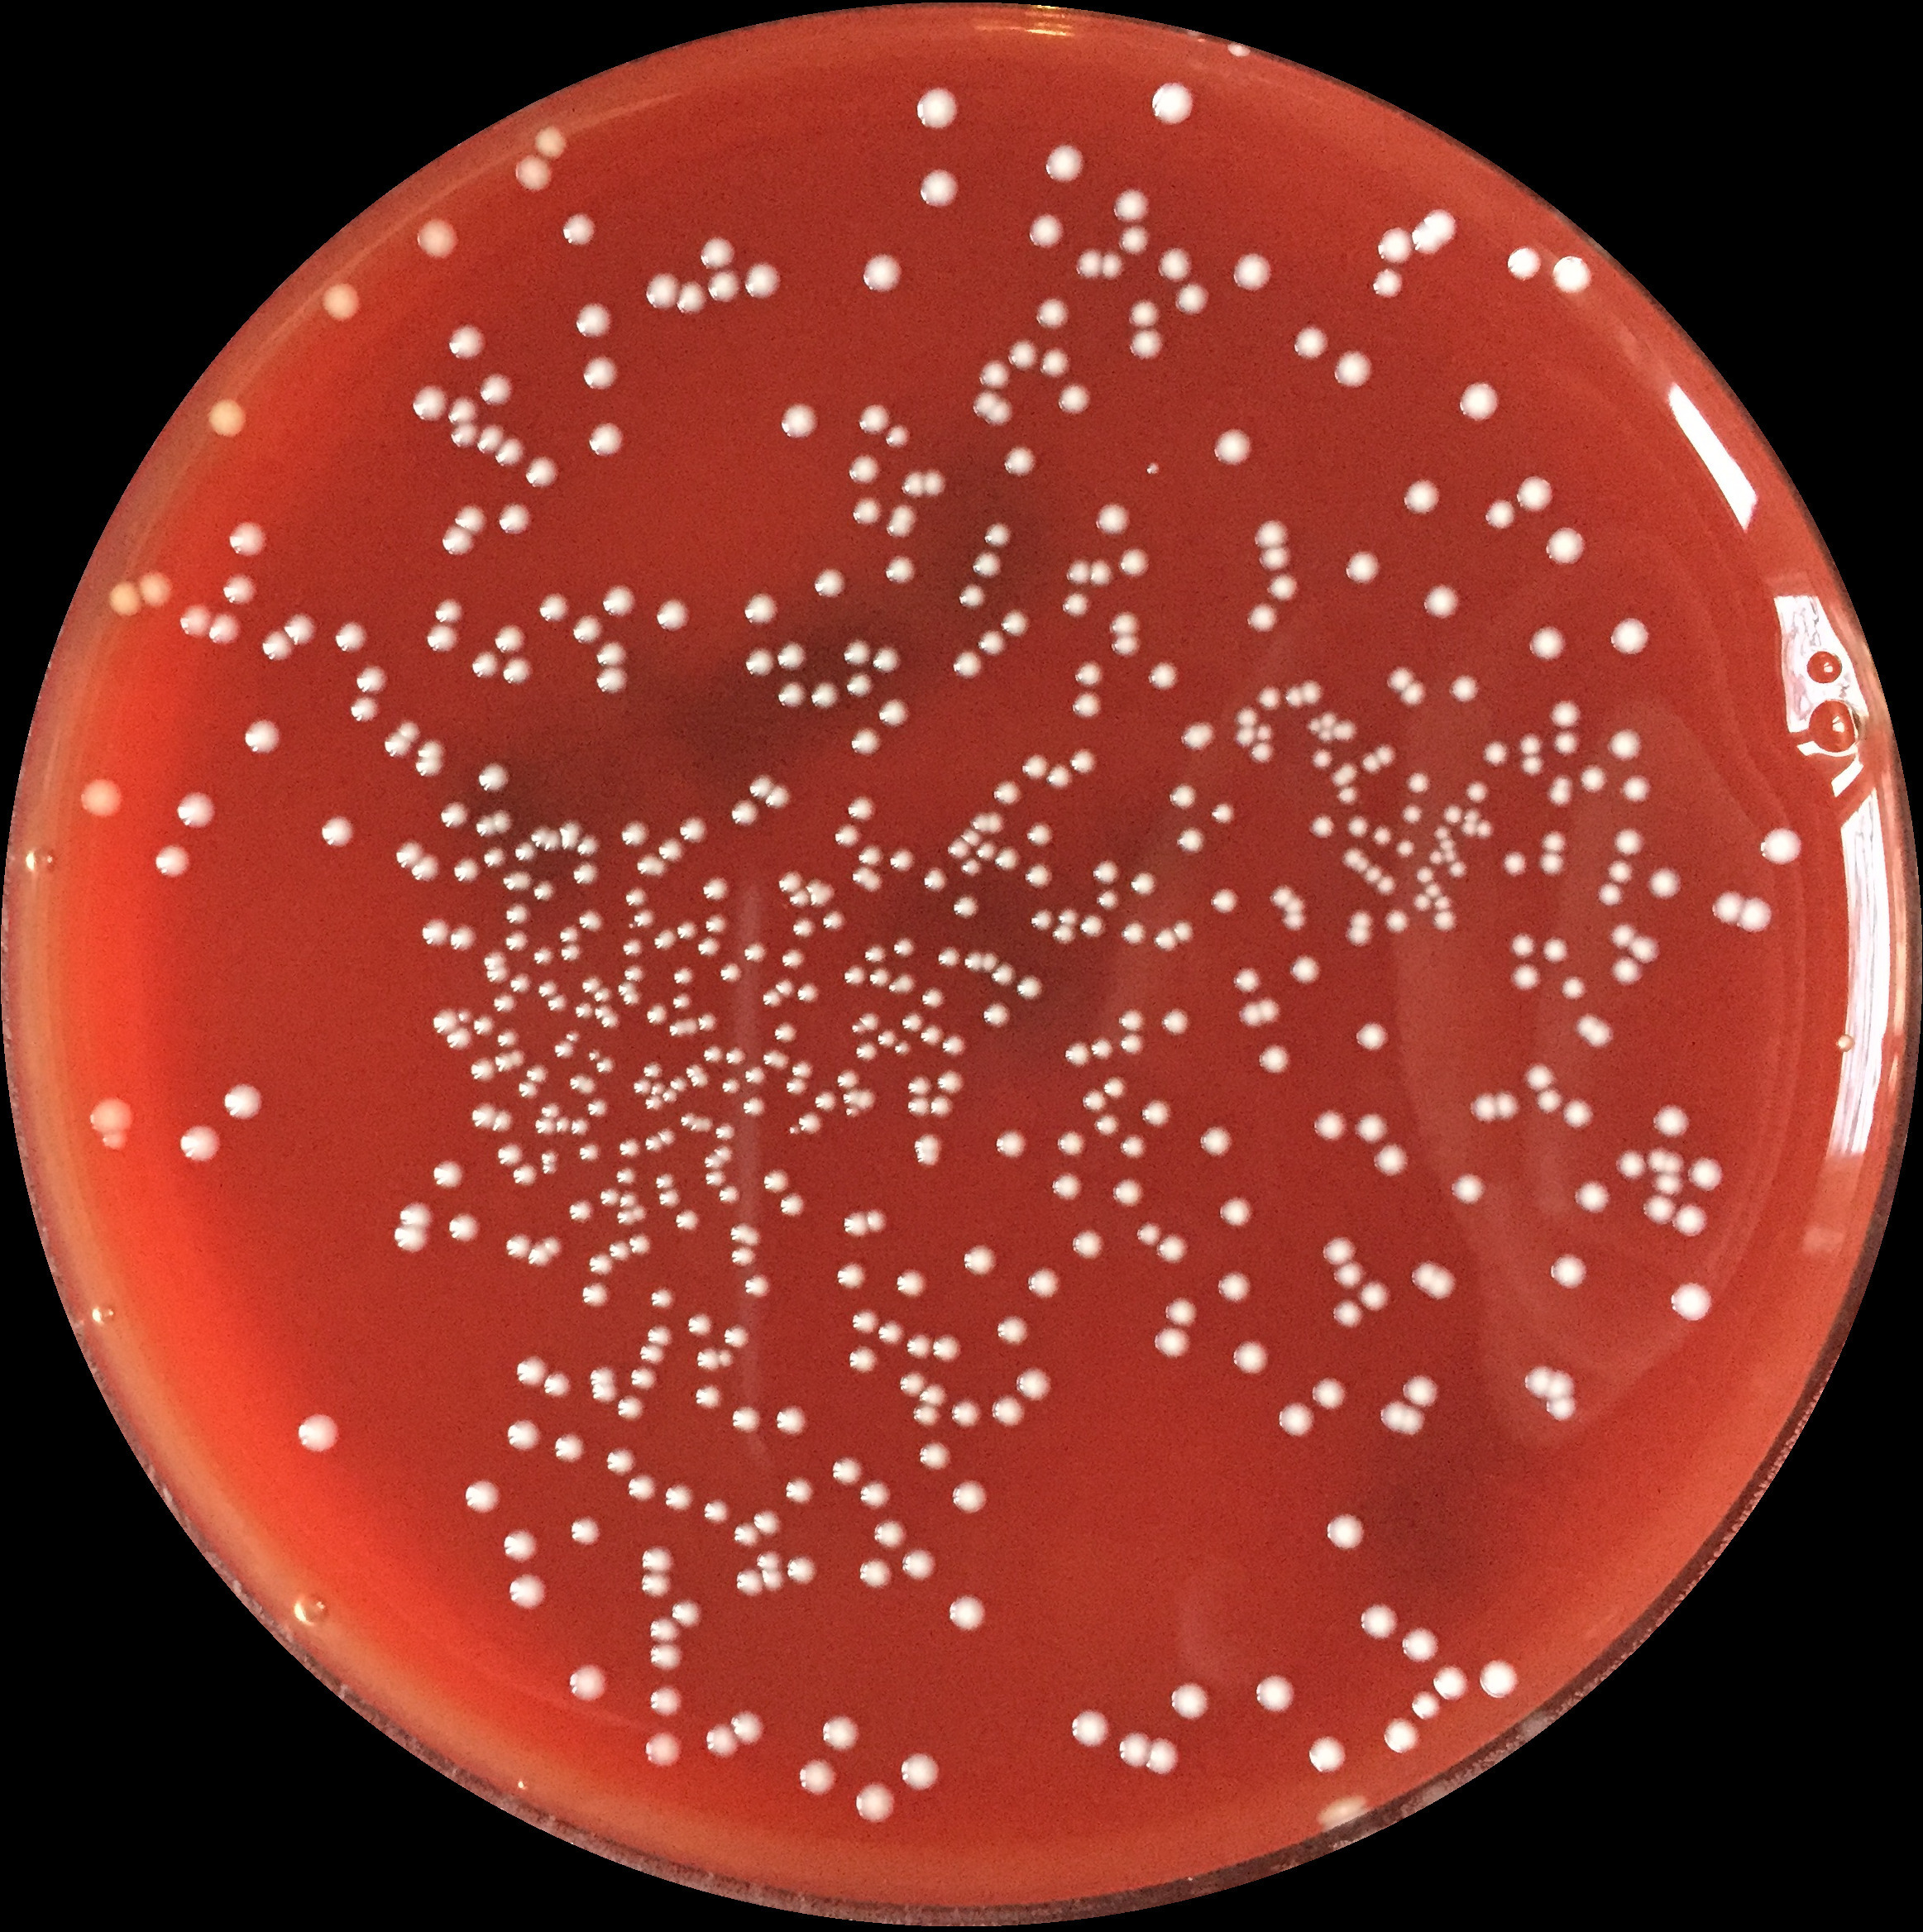sp21: (217, 1073, 266, 1129), (81, 770, 129, 826), (1146, 77, 1197, 127), (83, 1094, 139, 1138), (1405, 1259, 1458, 1303), (1043, 141, 1090, 188), (912, 86, 961, 132), (916, 166, 963, 211), (1541, 523, 1590, 567), (204, 396, 254, 440), (296, 1412, 343, 1456), (1025, 210, 1069, 255), (1453, 379, 1500, 421), (178, 1122, 225, 1164), (414, 218, 461, 261), (1377, 1398, 1426, 1439), (1668, 1279, 1712, 1323), (1065, 1708, 1111, 1751), (1233, 250, 1275, 294), (859, 252, 903, 294), (1513, 472, 1557, 514), (1477, 1657, 1520, 1701), (514, 151, 558, 194), (1398, 476, 1444, 516), (1606, 618, 1652, 659), (1757, 824, 1803, 865), (505, 1573, 551, 1613), (1109, 187, 1157, 225), (1527, 622, 1569, 664), (946, 1592, 988, 1634), (1212, 426, 1256, 467), (1571, 1011, 1615, 1051), (1685, 1154, 1726, 1198), (1324, 1511, 1368, 1552), (1252, 1673, 1296, 1714), (1166, 1682, 1210, 1722), (900, 1751, 940, 1795), (741, 257, 782, 299), (1370, 1139, 1412, 1180), (1430, 1663, 1472, 1703), (1307, 1735, 1349, 1775), (854, 1781, 895, 1823), (798, 1758, 838, 1800), (778, 400, 819, 442), (134, 571, 176, 611), (1550, 255, 1594, 294), (241, 717, 285, 756), (578, 354, 622, 393), (446, 321, 490, 359), (412, 382, 451, 426), (1375, 225, 1416, 266), (1502, 245, 1543, 285), (1335, 349, 1375, 389), (500, 1525, 541, 1566), (319, 282, 359, 322), (532, 122, 572, 162), (1194, 1122, 1236, 1161), (1277, 1400, 1319, 1439), (176, 791, 218, 830), (227, 520, 269, 558), (1338, 548, 1382, 585), (1398, 1374, 1442, 1411), (1643, 863, 1684, 902), (821, 1712, 859, 1752), (696, 232, 736, 271), (1127, 326, 1169, 363), (1604, 726, 1647, 763), (1546, 1252, 1588, 1289), (1152, 1324, 1194, 1361), (463, 1478, 505, 1515), (560, 206, 597, 248), (479, 368, 516, 410), (585, 421, 627, 458), (109, 579, 144, 623), (1245, 601, 1284, 639), (567, 1663, 606, 1701), (1291, 322, 1331, 359), (1092, 500, 1132, 537), (1178, 719, 1219, 756), (1308, 1106, 1349, 1143), (1229, 1338, 1270, 1375), (1213, 1268, 1254, 1305), (1358, 1604, 1398, 1641), (1381, 1717, 1421, 1754), (643, 1731, 683, 1768), (151, 844, 192, 881), (653, 597, 694, 634), (220, 571, 261, 608), (176, 602, 213, 643), (1419, 206, 1462, 241), (1419, 583, 1462, 618), (1650, 1102, 1692, 1138), (1708, 886, 1745, 925), (1639, 1189, 1676, 1228), (1671, 1201, 1710, 1238), (1448, 1169, 1486, 1206), (1016, 1365, 1053, 1404), (505, 1418, 544, 1455), (578, 299, 615, 338), (495, 500, 532, 539), (600, 581, 637, 620), (1286, 951, 1326, 986), (1215, 1196, 1256, 1231), (910, 1131, 946, 1171), (1402, 1627, 1442, 1663), (773, 1398, 807, 1441), (1308, 1375, 1351, 1409), (1372, 266, 1409, 303), (1573, 1178, 1610, 1215), (1116, 1731, 1153, 1768), (706, 1722, 743, 1759), (845, 451, 882, 488), (333, 618, 370, 655), (1053, 382, 1092, 417), (1254, 1043, 1293, 1078), (727, 1710, 766, 1745), (741, 592, 780, 627), (706, 266, 741, 305), (442, 521, 477, 560), (1173, 284, 1213, 317), (1351, 1110, 1391, 1143), (1023, 1266, 1064, 1300), (1249, 520, 1293, 549), (1116, 222, 1152, 259), (1037, 345, 1074, 380), (1407, 222, 1442, 259), (1116, 544, 1152, 581), (1613, 1147, 1648, 1184), (1356, 1277, 1393, 1312), (1050, 1168, 1087, 1203), (990, 1393, 1027, 1428), (951, 1479, 988, 1515), (902, 1548, 939, 1583), (858, 1557, 895, 1592), (319, 815, 356, 851), (812, 565, 849, 601), (877, 694, 914, 729), (1002, 444, 1039, 479), (535, 590, 571, 627), (493, 622, 530, 657), (282, 611, 319, 646), (1124, 298, 1162, 331), (1034, 296, 1072, 329), (1610, 955, 1648, 988), (1507, 960, 1546, 993), (1352, 1020, 1391, 1053), (961, 1245, 1000, 1279), (916, 1439, 954, 1472), (870, 1518, 909, 1552), (1146, 1738, 1180, 1777), (1219, 35, 1252, 74), (1520, 1062, 1560, 1094), (1541, 1393, 1581, 1425), (1319, 1236, 1359, 1268), (1159, 248, 1194, 284), (1446, 671, 1481, 706), (1560, 1095, 1595, 1131), (1138, 1097, 1173, 1132), (858, 402, 893, 437), (977, 356, 1013, 391), (527, 454, 562, 490), (1095, 248, 1129, 285), (1523, 1365, 1557, 1402), (893, 1268, 930, 1302), (949, 1397, 986, 1430), (829, 1455, 866, 1488), (847, 726, 884, 759), (674, 278, 708, 315), (646, 271, 680, 308), (453, 502, 490, 535), (424, 622, 461, 655), (259, 629, 296, 662), (208, 609, 241, 646), (396, 1199, 435, 1231), (888, 504, 919, 542), (1483, 497, 1518, 530), (1738, 896, 1773, 930), (1544, 1368, 1580, 1402), (1330, 1298, 1365, 1331), (995, 1314, 1030, 1347), (1409, 1689, 1444, 1722), (569, 1515, 604, 1548), (741, 646, 777, 680), (880, 551, 916, 585), (468, 648, 504, 682), (1069, 689, 1106, 720), (1153, 1233, 1190, 1265), (1111, 1178, 1148, 1210), (991, 1129, 1028, 1161), (669, 1599, 706, 1631), (514, 1356, 551, 1388), (475, 761, 512, 793), (805, 874, 836, 911), (777, 639, 808, 676), (493, 433, 525, 470), (393, 1224, 431, 1254), (1256, 544, 1296, 572), (1146, 659, 1180, 692), (1492, 1088, 1525, 1122), (1164, 1294, 1197, 1328), (785, 1553, 819, 1587), (553, 1430, 586, 1464), (409, 851, 442, 884), (528, 822, 562, 856), (500, 653, 534, 687), (1382, 662, 1418, 694), (1611, 826, 1647, 858), (729, 1404, 764, 1435), (784, 1474, 815, 1509), (639, 1545, 674, 1576), (648, 1615, 683, 1647), (579, 1279, 615, 1310), (447, 1212, 483, 1243), (729, 1220, 764, 1252), (451, 854, 486, 886), (616, 817, 652, 849), (1173, 824, 1208, 856), (870, 645, 905, 676), (571, 611, 606, 643), (354, 664, 389, 696), (1264, 572, 1301, 602), (1544, 697, 1581, 727), (604, 1446, 641, 1476), (637, 1569, 674, 1599), (648, 1643, 685, 1673), (921, 463, 951, 500), (477, 421, 507, 458), (1006, 340, 1039, 372), (1058, 588, 1092, 620), (1330, 717, 1363, 748), (859, 1479, 893, 1511), (438, 798, 470, 831), (655, 835, 689, 866), (810, 678, 842, 712), (951, 648, 983, 682), (998, 606, 1032, 638), (595, 666, 629, 697), (1076, 245, 1106, 280), (1053, 1129, 1088, 1159), (981, 1002, 1016, 1032), (750, 1508, 785, 1537), (678, 815, 713, 845), (845, 793, 880, 822), (773, 680, 808, 710), (446, 393, 481, 423), (648, 1685, 685, 1714), (1330, 1263, 1368, 1289), (1578, 763, 1610, 794), (1618, 771, 1650, 803), (1629, 933, 1661, 965), (447, 921, 479, 953), (919, 865, 951, 896), (983, 518, 1014, 549), (852, 493, 884, 525), (595, 638, 627, 669), (1071, 659, 1104, 689), (1206, 886, 1240, 916), (1551, 727, 1585, 757), (1652, 1169, 1685, 1199), (1071, 1229, 1104, 1259), (930, 1333, 963, 1363), (875, 1319, 909, 1349), (662, 1483, 696, 1513), (431, 1159, 465, 1189), (393, 840, 426, 870), (349, 694, 382, 724), (634, 852, 667, 882), (699, 874, 733, 903), (729, 796, 759, 830), (991, 778, 1025, 808), (1090, 858, 1124, 888), (1127, 868, 1160, 898), (842, 638, 872, 671), (969, 551, 1004, 579), (556, 817, 583, 854), (849, 866, 886, 893), (1069, 747, 1099, 778), (1481, 736, 1513, 766), (1608, 919, 1638, 951), (1507, 930, 1537, 962), (1558, 972, 1590, 1002), (1132, 1219, 1164, 1249), (1118, 1131, 1150, 1161), (849, 1307, 880, 1337), (504, 1231, 535, 1261), (430, 1007, 461, 1037), (421, 918, 451, 949), (886, 844, 916, 875), (1025, 819, 1055, 851), (1030, 905, 1060, 937), (1169, 780, 1199, 812), (956, 581, 988, 611), (433, 595, 465, 625), (1243, 738, 1277, 766), (1602, 858, 1636, 886), (1016, 970, 1044, 1004), (845, 1346, 879, 1374), (541, 1370, 574, 1398), (627, 1365, 660, 1393), (763, 784, 796, 812), (1023, 861, 1057, 889), (986, 396, 1014, 430), (1469, 1090, 1495, 1125), (729, 1522, 764, 1548), (1150, 925, 1180, 955), (627, 1472, 657, 1502), (833, 821, 863, 851), (991, 844, 1021, 874), (1398, 680, 1430, 708), (1109, 609, 1141, 638), (1088, 557, 1116, 588), (1044, 761, 1076, 789), (1328, 761, 1359, 789), (1428, 909, 1460, 937), (1532, 1087, 1564, 1115), (1060, 1041, 1092, 1069), (935, 1069, 967, 1097), (835, 1263, 866, 1291), (917, 1381, 949, 1409), (615, 1393, 646, 1421), (951, 895, 983, 923), (1020, 750, 1051, 778), (1159, 1007, 1192, 1034), (567, 1071, 600, 1097), (976, 629, 1009, 655), (1342, 926, 1377, 951), (1396, 800, 1426, 828), (1307, 812, 1337, 840), (1381, 907, 1411, 935), (1500, 849, 1529, 879), (1537, 826, 1567, 854), (1539, 851, 1567, 881), (928, 1094, 958, 1122), (898, 1370, 928, 1398), (736, 1567, 764, 1597), (576, 907, 606, 935), (384, 731, 414, 759), (970, 389, 1000, 417), (1402, 770, 1433, 796), (1116, 1007, 1148, 1034), (886, 972, 917, 999), (759, 1168, 791, 1194), (699, 1499, 731, 1525), (900, 468, 926, 500), (884, 421, 910, 453), (1109, 634, 1143, 659), (759, 1048, 792, 1073), (1298, 678, 1326, 706), (1541, 935, 1569, 963), (771, 1020, 799, 1048), (527, 1242, 555, 1270), (468, 1101, 497, 1129), (468, 1057, 497, 1085), (777, 866, 805, 895), (791, 912, 819, 940), (1120, 918, 1148, 946), (451, 421, 479, 449), (1231, 967, 1261, 993), (1462, 777, 1492, 803), (1236, 1002, 1266, 1029), (1092, 1110, 1122, 1136), (917, 984, 947, 1011), (907, 1331, 933, 1361), (645, 1321, 674, 1347), (586, 1250, 616, 1277), (845, 673, 875, 699), (1544, 784, 1576, 808), (932, 946, 963, 970), (754, 1548, 785, 1573), (491, 805, 516, 837), (500, 866, 532, 891), (1256, 683, 1282, 712), (1229, 722, 1257, 748), (1064, 560, 1090, 588), (1256, 995, 1284, 1021), (1078, 1087, 1106, 1113), (842, 963, 870, 990), (898, 1007, 926, 1034), (842, 1212, 870, 1238), (796, 1113, 824, 1139), (694, 1384, 722, 1411), (694, 1346, 720, 1374), (759, 1566, 787, 1592), (674, 1206, 701, 1235), (497, 1141, 525, 1168), (504, 900, 532, 926), (574, 831, 602, 858), (821, 907, 847, 935), (1079, 912, 1108, 939), (1050, 923, 1078, 949), (1280, 911, 1310, 935), (939, 1034, 969, 1058), (833, 1067, 863, 1092), (741, 1275, 771, 1300), (567, 1199, 597, 1224), (446, 1027, 475, 1051), (414, 756, 444, 780), (472, 810, 497, 840), (571, 859, 600, 884), (944, 837, 974, 861), (588, 1365, 620, 1388), (1344, 814, 1370, 840), (1518, 752, 1544, 778), (1597, 881, 1624, 907), (1662, 1150, 1689, 1176), (1088, 1036, 1115, 1062), (1101, 1074, 1127, 1101), (917, 1023, 944, 1050), (511, 1161, 537, 1187), (743, 939, 770, 965), (481, 844, 507, 870), (1095, 884, 1122, 911), (1282, 683, 1307, 712), (1370, 822, 1395, 851), (1516, 729, 1544, 754), (1171, 918, 1199, 942), (1118, 1030, 1146, 1055), (905, 1094, 933, 1118), (988, 962, 1016, 986), (687, 1314, 715, 1338), (606, 1238, 634, 1263), (504, 928, 532, 953), (671, 965, 699, 990), (750, 771, 775, 800), (858, 844, 886, 868), (1055, 905, 1083, 930), (1278, 893, 1308, 916), (905, 1074, 935, 1097), (777, 1194, 807, 1217), (794, 981, 824, 1004), (99, 1132, 130, 1154), (416, 738, 447, 759), (1308, 747, 1335, 771), (1208, 801, 1234, 826), (1268, 882, 1293, 909), (1347, 909, 1374, 933), (1472, 815, 1499, 840), (810, 1090, 836, 1115), (865, 1208, 891, 1233), (696, 1009, 722, 1034), (643, 1004, 669, 1029), (639, 1344, 666, 1368), (627, 1233, 653, 1257), (491, 1108, 516, 1134), (495, 1027, 521, 1051), (718, 960, 745, 984), (704, 912, 731, 937), (653, 926, 680, 951), (532, 877, 558, 902), (912, 1407, 940, 1430), (1647, 1145, 1669, 1173), (859, 942, 888, 965), (865, 965, 893, 988), (740, 1095, 768, 1118), (771, 977, 799, 1000), (722, 1324, 750, 1347), (648, 1286, 676, 1309), (523, 1062, 551, 1085), (491, 992, 519, 1014), (622, 962, 650, 984), (729, 1247, 759, 1268), (1333, 784, 1358, 808), (1337, 845, 1361, 870), (1442, 803, 1467, 828), (551, 1039, 576, 1064), (396, 719, 421, 743), (1358, 748, 1381, 775), (1370, 743, 1396, 766), (977, 949, 1000, 976), (963, 949, 986, 976), (722, 1046, 748, 1069), (616, 1138, 643, 1161), (585, 1097, 611, 1120), (546, 992, 572, 1014), (696, 935, 722, 958), (674, 919, 701, 942), (780, 948, 807, 970), (784, 1078, 812, 1099), (655, 1189, 683, 1210), (590, 1384, 618, 1405), (486, 965, 514, 986), (1233, 704, 1257, 727), (1393, 837, 1418, 859), (1375, 874, 1398, 898), (1412, 889, 1435, 914), (1430, 889, 1455, 912), (852, 1039, 877, 1062), (717, 1185, 741, 1208), (534, 1115, 558, 1138), (472, 1014, 497, 1037), (518, 1078, 542, 1101), (512, 840, 537, 863), (789, 1060, 815, 1081), (741, 1066, 768, 1087), (759, 988, 785, 1009), (558, 942, 585, 963), (630, 907, 657, 928), (791, 886, 812, 912), (958, 826, 984, 847), (620, 992, 648, 1011), (715, 1349, 738, 1372), (597, 1185, 620, 1208), (618, 1189, 641, 1212), (507, 1048, 530, 1071), (511, 970, 534, 993), (960, 856, 983, 879), (893, 937, 917, 958), (578, 1143, 602, 1164), (537, 977, 562, 999), (625, 886, 650, 907), (711, 1124, 738, 1143), (669, 993, 696, 1013), (856, 1011, 884, 1029), (1252, 720, 1275, 741), (1315, 708, 1338, 729), (701, 1043, 724, 1064), (541, 1235, 562, 1257), (629, 1203, 652, 1224), (569, 1115, 592, 1136), (595, 1055, 618, 1076), (483, 949, 505, 970), (532, 944, 555, 965), (976, 840, 998, 861), (986, 810, 1007, 833), (969, 810, 990, 833), (641, 1062, 666, 1081), (493, 1050, 512, 1074), (579, 974, 604, 993), (703, 1169, 729, 1187), (652, 1171, 678, 1189), (873, 1029, 895, 1050), (560, 925, 581, 946), (1363, 863, 1382, 886), (847, 1020, 870, 1039), (689, 1073, 711, 1092), (655, 1127, 678, 1147), (615, 1166, 637, 1185), (682, 1014, 701, 1037), (615, 1208, 637, 1228), (592, 986, 615, 1006), (622, 937, 645, 956), (1460, 805, 1485, 822), (718, 1076, 743, 1094), (1143, 460, 1164, 479), (1448, 859, 1469, 879), (891, 1037, 912, 1057), (713, 1143, 734, 1162), (643, 1134, 664, 1154), (541, 1101, 562, 1120), (553, 1115, 572, 1136), (574, 1000, 593, 1021), (683, 1062, 706, 1080), (667, 1074, 690, 1092), (859, 1088, 875, 1113), (1460, 817, 1479, 837), (648, 1080, 667, 1099), (667, 1020, 687, 1039), (1423, 882, 1444, 900), (1425, 851, 1446, 868), (630, 1080, 652, 1097), (539, 1147, 560, 1164), (600, 1013, 622, 1030), (615, 981, 641, 995), (692, 1117, 715, 1132), (1303, 717, 1321, 736), (1317, 726, 1335, 745), (1352, 856, 1370, 875), (1551, 773, 1571, 791), (454, 1007, 474, 1025), (703, 1155, 724, 1171), (641, 1095, 662, 1111), (593, 1004, 615, 1020), (1416, 866, 1433, 884), (564, 1029, 583, 1044), (1432, 826, 1453, 840), (844, 1088, 859, 1106), (678, 1113, 696, 1129), (660, 1088, 678, 1104), (1439, 838, 1458, 852), (542, 1161, 560, 1175), (785, 1124, 805, 1136), (586, 1048, 602, 1062), (1444, 849, 1460, 861), (845, 1108, 861, 1120)
